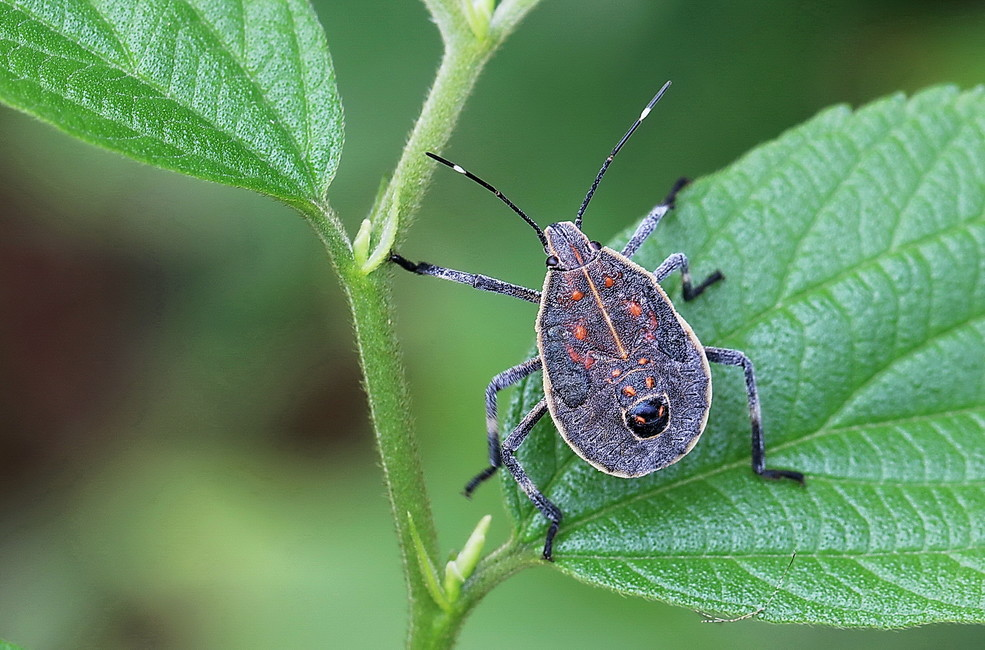chunchong: (400, 162, 790, 534)
